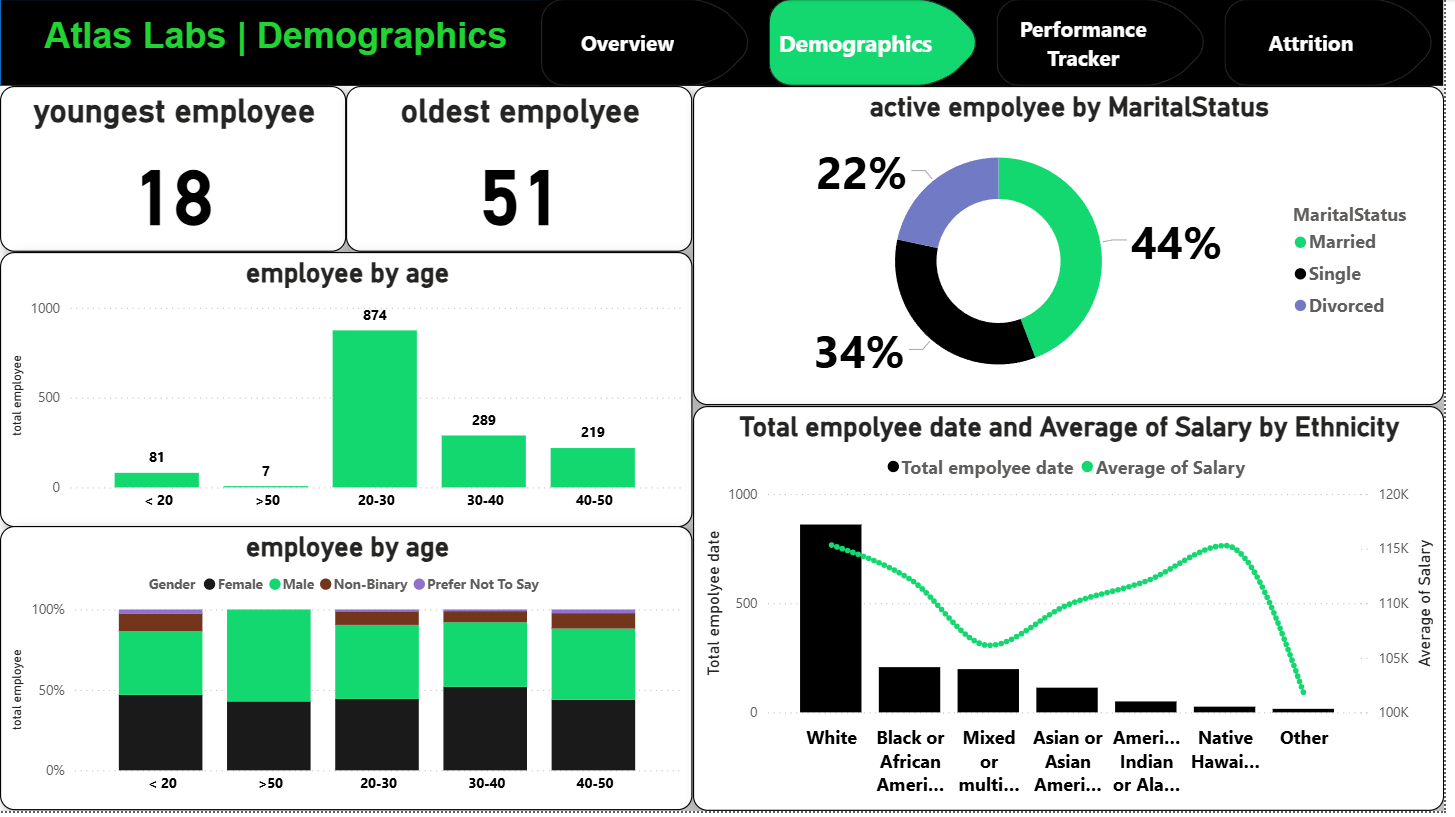

The page's visual inventory and layout, read from the dashboard file:
{"tool":"powerbi","page":{"name":"Demographics","canvas":[1280,720],"ordinal":1},"visuals":[{"type":"shape","box":[0,0,1270.1,77.3],"z":0},{"type":"textbox","box":[9.9,9.9,469.6,67.4],"z":1000},{"type":"pageNavigator","box":[479.5,0,800.5,77.3],"z":2000},{"type":"card","title":"youngest employee","fields":{"Values":["Min(DimEmployee.Age)"]},"box":[0,77.3,307.1,146.6],"z":3000},{"type":"card","title":"oldest empolyee","fields":{"Values":["Max(DimEmployee.Age)"]},"box":[307.1,77.3,307.1,146.6],"z":4000},{"type":"clusteredColumnChart","title":"employee by age","fields":{"Y":["__meashures.total employee"],"Category":["DimEmployee.age bins"]},"box":[0,223.9,614.2,243.7],"z":5000},{"type":"hundredPercentStackedColumnChart","title":"employee by age","fields":{"Category":["DimEmployee.age bins"],"Y":["__meashures.total employee"],"Series":["DimEmployee.Gender"]},"box":[0,467.6,614.2,251.6],"z":6000},{"type":"donutChart","fields":{"Y":["__meashures.active empolyee"],"Category":["DimEmployee.MaritalStatus"]},"box":[614.2,77.3,665.8,283.3],"z":7000},{"type":"lineStackedColumnComboChart","fields":{"Y":["__meashures.Total empolyee date"],"Category":["DimEmployee.Ethnicity"],"Y2":["Avg(DimEmployee.Salary)"]},"box":[614.2,360.6,665.8,358.6],"z":8000}]}

Visuals, with their boxes in screenshot pixels (x1, y1, x2, y2), scaled from the page's 1280x720 canvas onto the 1455x817 screenshot:
shape: rect(0, 0, 1444, 88)
textbox: rect(11, 11, 545, 88)
pageNavigator: rect(545, 0, 1454, 88)
"youngest employee" card: rect(0, 88, 349, 254)
"oldest empolyee" card: rect(349, 88, 698, 254)
"employee by age" clusteredColumnChart: rect(0, 254, 698, 531)
"employee by age" hundredPercentStackedColumnChart: rect(0, 531, 698, 816)
donutChart - __meashures.active empolyee x DimEmployee.MaritalStatus: rect(698, 88, 1454, 409)
lineStackedColumnComboChart - __meashures.Total empolyee date x DimEmployee.Ethnicity: rect(698, 409, 1454, 816)
